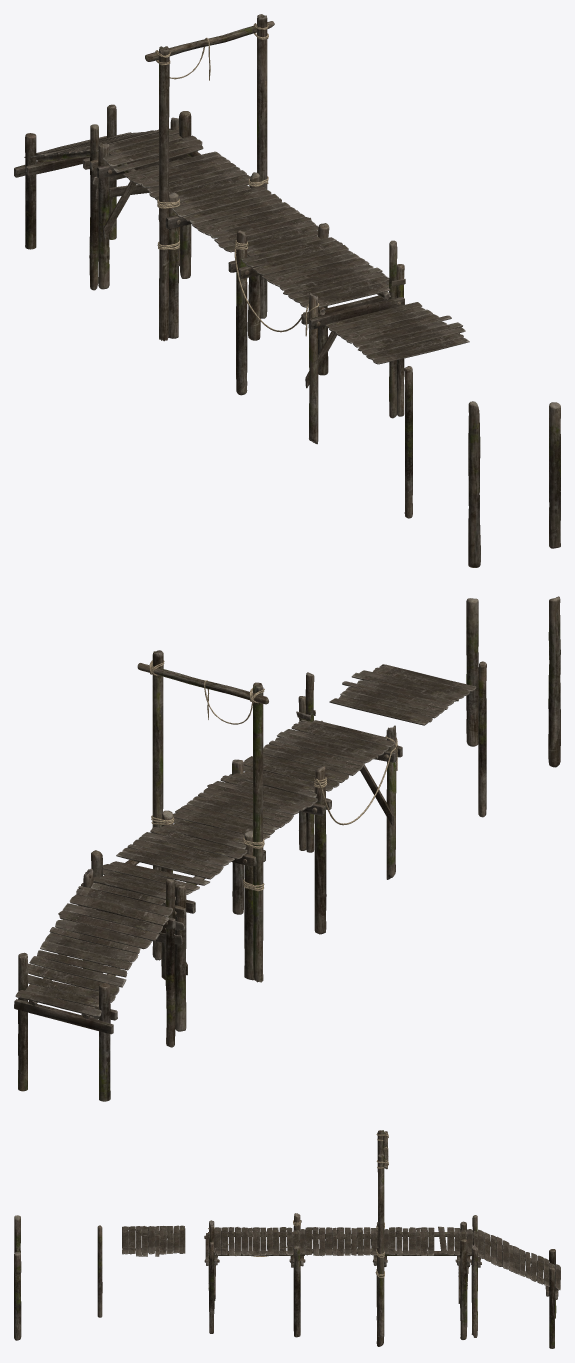
The model's file is modular_wooden_pier.glb.
3 renders of one model, top to bottom at view 1: azimuth 30°, elevation 25°; view 2: azimuth 150°, elevation 25°; view 3: azimuth 270°, elevation 25°, orthographic. The views are drawn at different scales.
Parts seen in each view (by area): view 1: modular_wooden_pier_planks, modular_wooden_pier_section_01, modular_wooden_pier_poles; view 2: modular_wooden_pier_planks, modular_wooden_pier_section_01, modular_wooden_pier_poles; view 3: modular_wooden_pier_planks, modular_wooden_pier_section_01, modular_wooden_pier_poles.
Part boxes in pixels (<box>): modular_wooden_pier_planks: <box>14,23,469,388</box>; modular_wooden_pier_section_01: <box>25,14,404,444</box>; modular_wooden_pier_poles: <box>404,366,560,567</box>; modular_wooden_pier_planks: <box>14,660,476,1034</box>; modular_wooden_pier_section_01: <box>18,650,396,1101</box>; modular_wooden_pier_poles: <box>466,596,560,817</box>; modular_wooden_pier_planks: <box>122,1132,560,1303</box>; modular_wooden_pier_section_01: <box>204,1130,558,1348</box>; modular_wooden_pier_poles: <box>14,1215,102,1340</box>.
Size of the model in its own units: 3.1 by 7.52 by 19.03.
2 materials, 2 textured.
